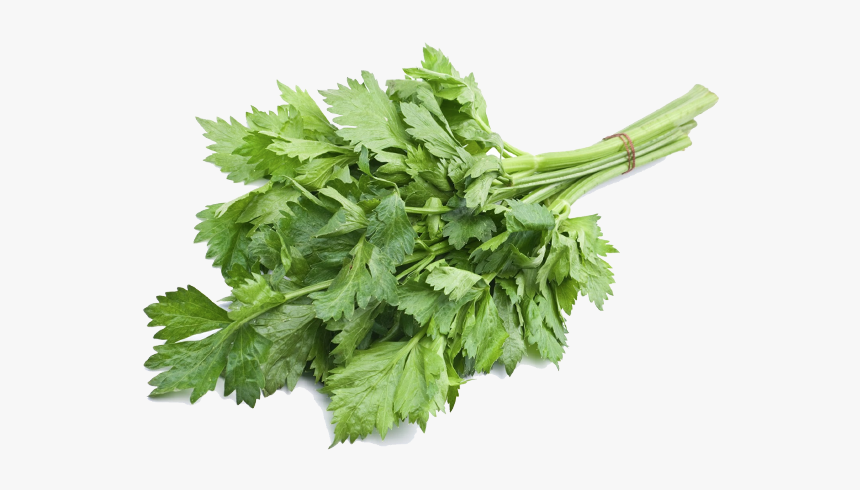Seledri: (147, 46, 743, 460)
